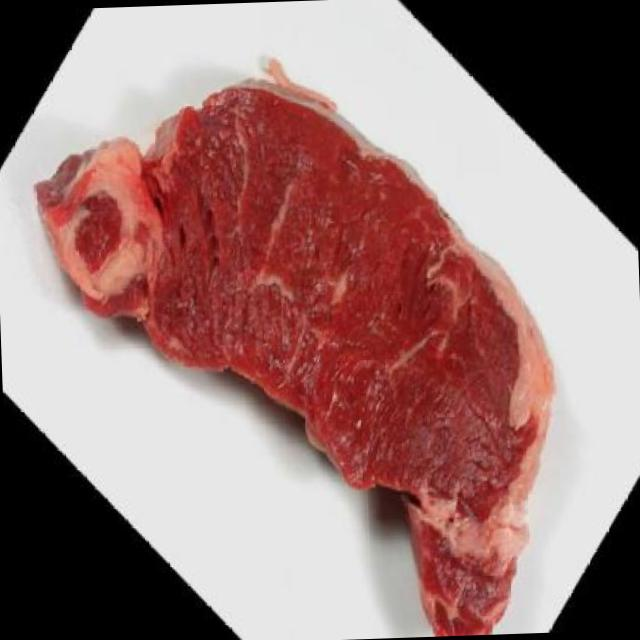beef: (56, 47, 561, 640)
